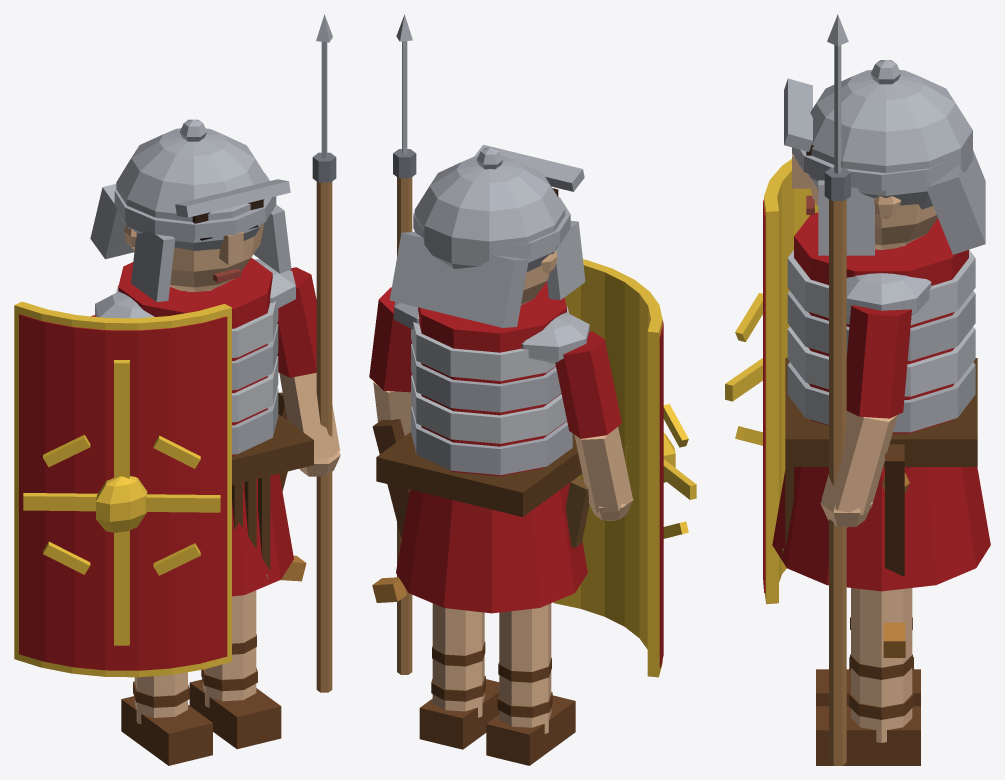
File: legionista.glb
3 views of the same model, side by side, from view 1: azimuth 30°, elevation 25°; view 2: azimuth 150°, elevation 25°; view 3: azimuth 270°, elevation 25° (orthographic). The views are drawn at different scales.
Visible parts, largest first — view 1: reka_l, glowa, cialo, reka_p, noga_p, noga_l; view 2: cialo, reka_l, glowa, noga_l, noga_p, reka_p; view 3: cialo, glowa, reka_p, reka_l, noga_p, noga_l.
Boxes of the visible parts, <box> form: reka_l: <box>14,301,231,677</box>; glowa: <box>90,119,291,301</box>; cialo: <box>95,257,313,596</box>; reka_p: <box>277,14,340,692</box>; noga_p: <box>189,590,281,749</box>; noga_l: <box>121,672,212,765</box>; cialo: <box>372,281,589,613</box>; reka_l: <box>553,259,696,677</box>; glowa: <box>389,144,585,327</box>; noga_l: <box>486,603,575,765</box>; noga_p: <box>419,603,499,749</box>; reka_p: <box>369,14,416,674</box>; cialo: <box>772,212,990,657</box>; glowa: <box>784,60,985,255</box>; reka_p: <box>820,14,911,765</box>; reka_l: <box>725,159,818,604</box>; noga_p: <box>816,588,920,765</box>; noga_l: <box>816,617,920,706</box>.
Bounding box in the file's own units: 0.9259 × 1.97 × 0.608.
